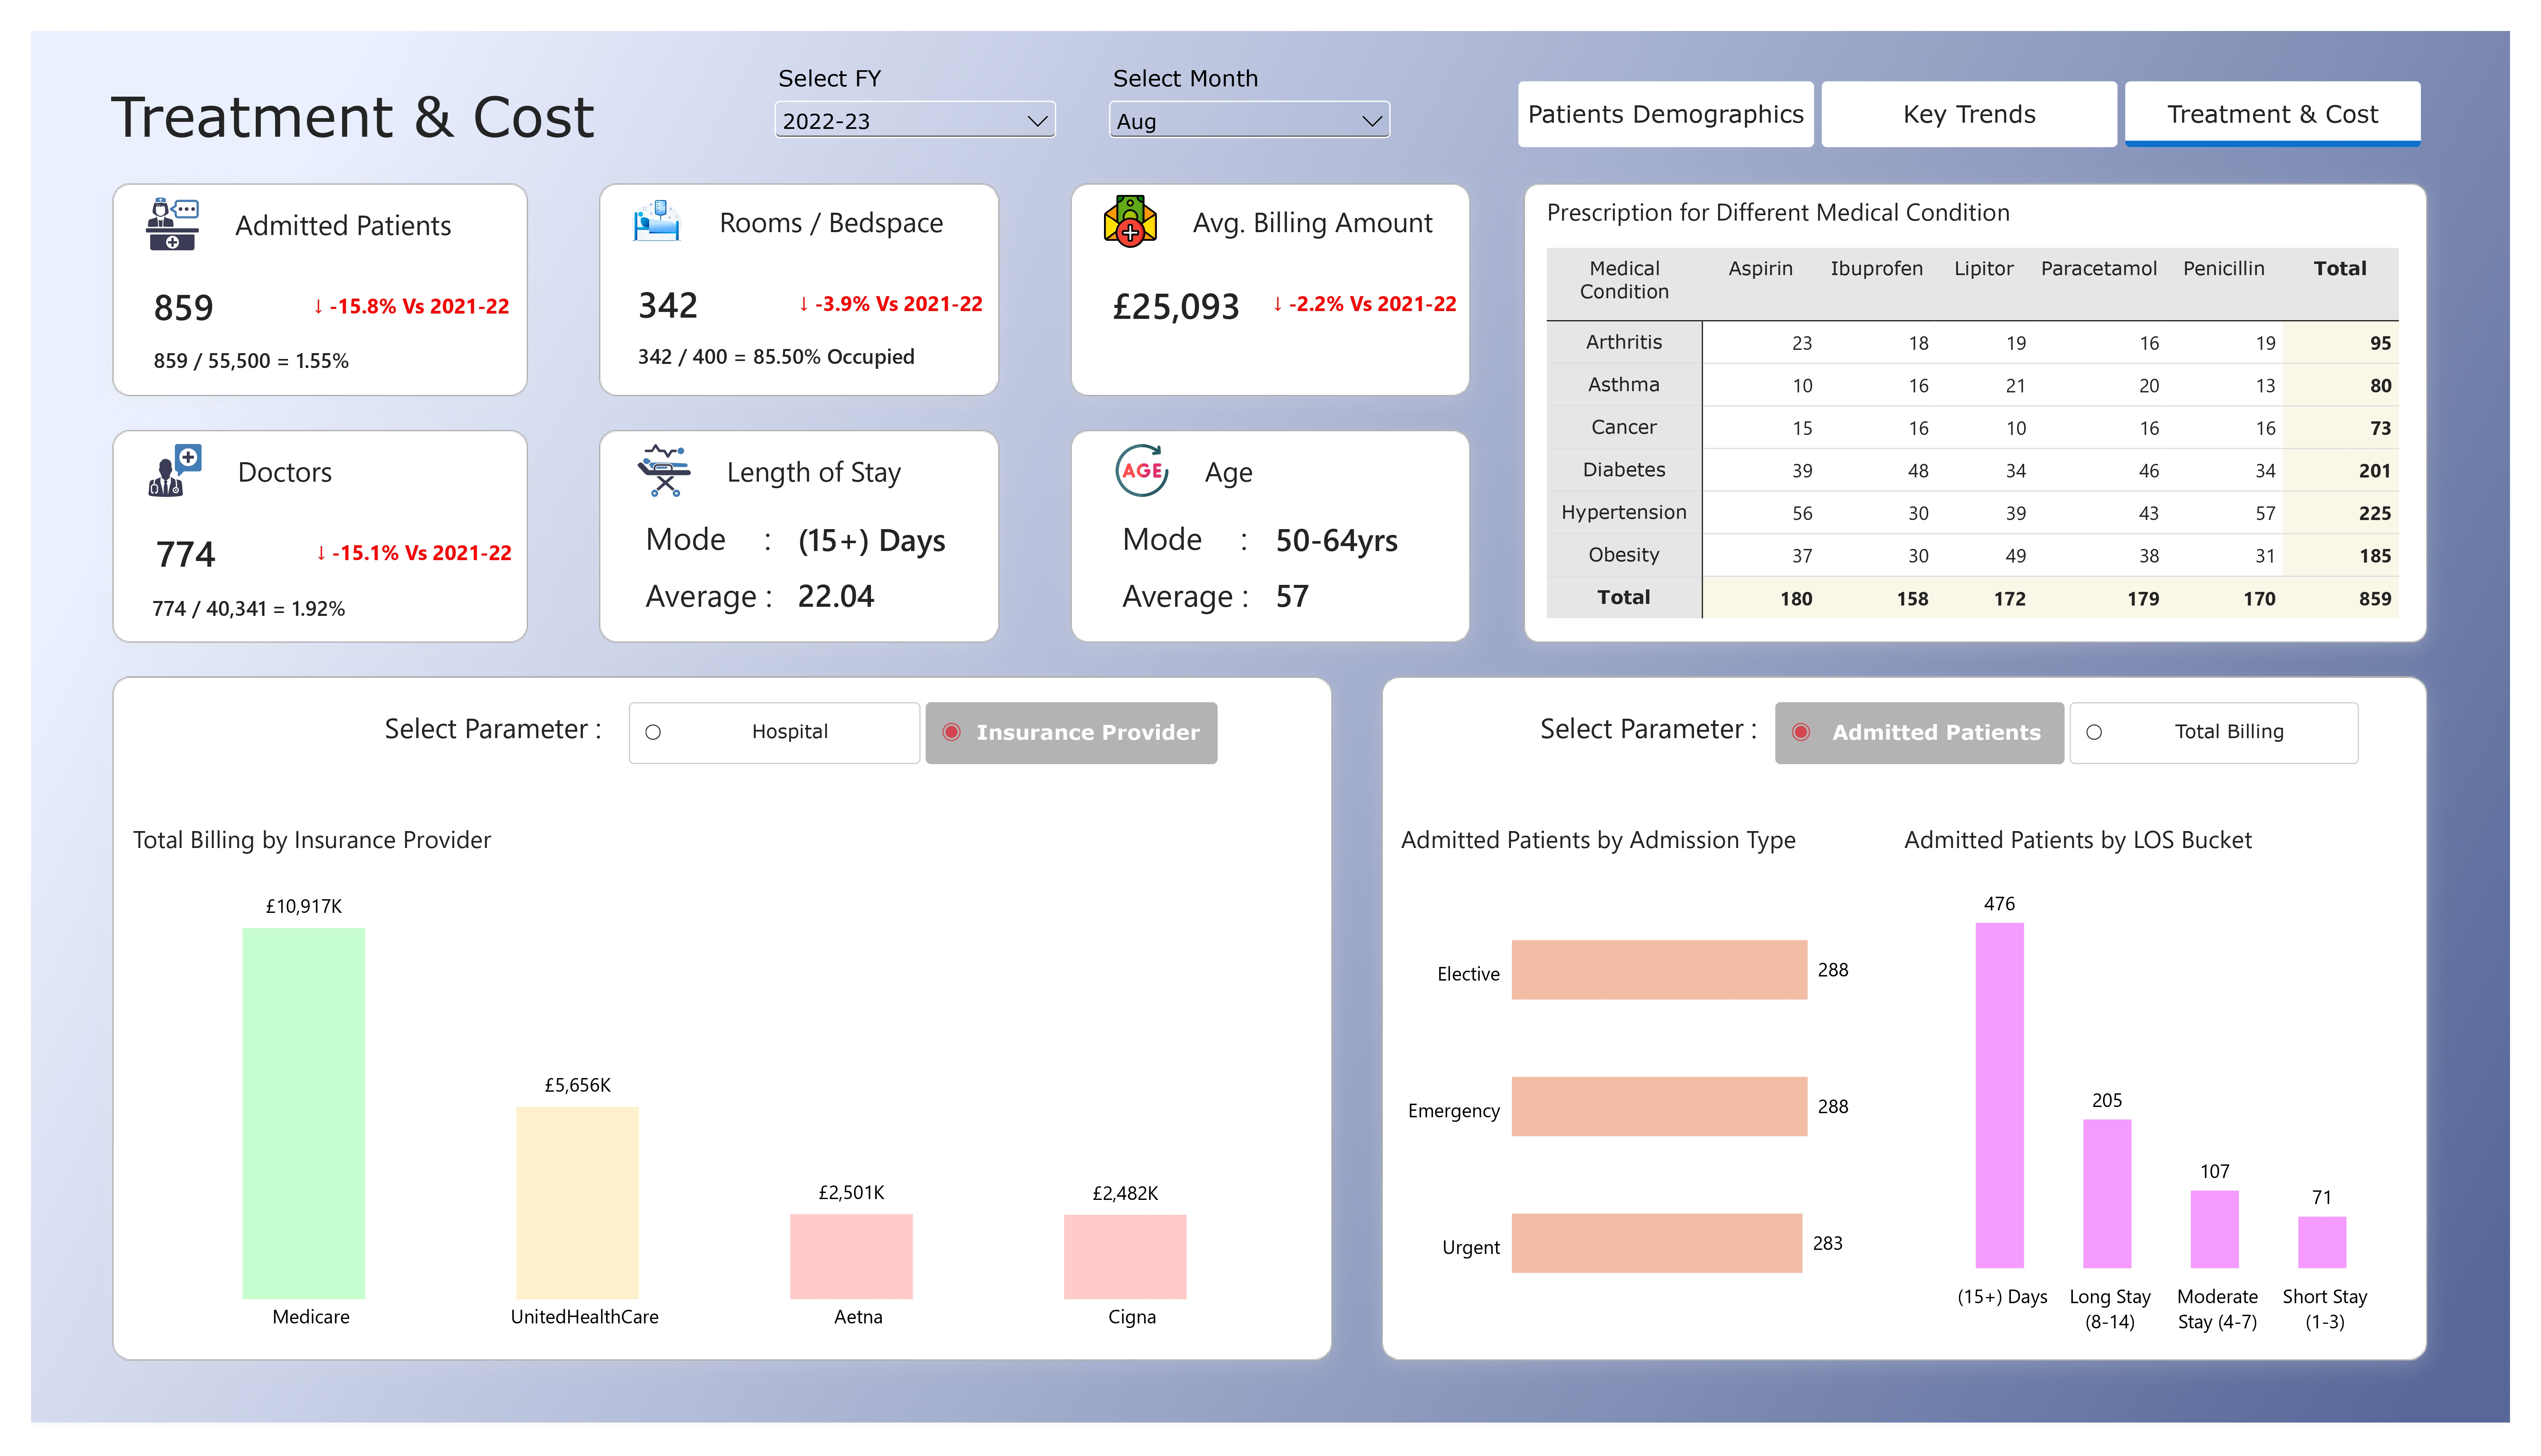

Layout of this report page (visuals, bound fields, positions):
{"tool":"powerbi","page":{"name":"Treatment & Cost","canvas":[1920,1080],"ordinal":2},"visuals":[{"type":"slicer","fields":{"Values":["Calendar.FY"]},"box":[570.7,26.3,228.3,65],"z":0},{"type":"cardVisual","fields":{"Data":["DAX.Admitted Patients"]},"box":[78.6,171.4,172.3,82.9],"z":1000},{"type":"slicer","fields":{"Values":["Calendar.FY Month"]},"box":[830.1,26.3,228.3,65],"z":2000},{"type":"image","box":[78.5,129,61.2,41.2],"z":3000},{"type":"textbox","box":[157.5,135,187.5,28.8],"z":4000},{"type":"cardVisual","fields":{"Data":["DAX.Adm YoY"]},"box":[202.9,177.1,201.4,70],"z":5000},{"type":"cardVisual","fields":{"Data":["DAX.Admitted P Text"]},"box":[78.6,227.1,235.7,54.3],"z":6000},{"type":"cardVisual","fields":{"Data":["DAX.Rooms"]},"box":[454.3,169.2,172.3,82.9],"z":7000},{"type":"image","box":[454.3,127.1,61,41],"z":8000},{"type":"textbox","box":[533.2,132.8,187.5,28.8],"z":9000},{"type":"cardVisual","fields":{"Data":["DAX.Room YoY"]},"box":[578.6,174.9,201.4,70],"z":10000},{"type":"cardVisual","fields":{"Data":["DAX.Rooms Occupied Text"]},"box":[454.3,224.3,265.7,54.3],"z":11000},{"type":"cardVisual","fields":{"Data":["DAX.Avg Billing Amt"]},"box":[821.2,169.8,172.3,82.9],"z":12000},{"type":"image","box":[820.9,127.2,61.2,41.3],"z":13000},{"type":"textbox","box":[900.2,133.3,187.5,28.8],"z":14000},{"type":"cardVisual","fields":{"Data":["DAX.Bill YoY"]},"box":[945.5,175.5,201.4,70],"z":15000},{"type":"cardVisual","fields":{"Data":["DAX.Doctors"]},"box":[81.1,362.2,172.3,82.9],"z":16000},{"type":"image","box":[81,319.7,61.2,41.2],"z":17000},{"type":"textbox","box":[160.1,325.7,187.5,28.8],"z":18000},{"type":"cardVisual","fields":{"Data":["DAX.Doc YoY"]},"box":[205.4,367.9,201.4,70],"z":19000},{"type":"cardVisual","fields":{"Data":["DAX.Doc Text"]},"box":[78,419.2,235.7,54.3],"z":20000},{"type":"cardVisual","fields":{"Data":["DAX.Mode Age"]},"box":[947.9,371.5,155.1,42.7],"z":21000},{"type":"image","box":[829.7,319.8,61.2,41.2],"z":22000},{"type":"textbox","box":[908.8,325.8,187.5,28.8],"z":23000},{"type":"cardVisual","fields":{"Data":["DAX.Average Age of Group"]},"box":[947.9,416,118.1,39.9],"z":24000},{"type":"textbox","box":[845.4,375.7,156.6,34.2],"z":25000},{"type":"textbox","box":[845.4,419.9,123.8,34.2],"z":26000},{"type":"cardVisual","fields":{"Data":["DAX.Mode LOS"]},"box":[577.9,371.5,251.9,42.7],"z":27000},{"type":"image","box":[460.1,319.8,61.2,41.2],"z":28000},{"type":"textbox","box":[539.2,325.8,187.5,28.8],"z":29000},{"type":"cardVisual","fields":{"Data":["DAX.Average LOS of Group"]},"box":[578.3,416,118.1,39.9],"z":30000},{"type":"textbox","box":[475.8,375.7,156.6,34.2],"z":31000},{"type":"textbox","box":[475.8,419.9,123.8,34.2],"z":32000},{"type":"clusteredColumnChart","fields":{"Category":["HealthData.LOS Bucket"],"Y":["DAX.Admitted Patients"]},"box":[1435.1,598.5,412.3,428.3],"z":33000},{"type":"lineStackedColumnComboChart","fields":{"Category":["HealthData.Insurance Provider"],"Y":["DAX.Total Billing"]},"box":[62.5,598.5,944.3,428.3],"z":34000},{"type":"advancedSlicerVisual","fields":{"Values":["Parameter P3.Parameter P3"]},"box":[442.9,520,496.1,47.9],"z":35000},{"type":"pivotTable","title":"Prescription for Different Medical Condition","fields":{"Columns":["HealthData.Medication"],"Rows":["DimCondition.Medical Condition"],"Values":["DAX.Admitted Patients"]},"box":[1158.5,113.1,704.9,360.4],"z":36000},{"type":"clusteredBarChart","fields":{"Category":["HealthData.Admission Type"],"Y":["DAX.Admitted Patients"]},"box":[1045.4,598.5,379.1,428.3],"z":37000},{"type":"advancedSlicerVisual","fields":{"Values":["Parameter P4.Parameter P4"]},"box":[1331.4,520,492.1,47.9],"z":38000},{"type":"textbox","box":[274,525.4,186.4,37],"z":39000},{"type":"textbox","box":[1169.1,525.4,186.4,37],"z":39001},{"type":"pageNavigator","box":[1152,38.9,701.1,51.3],"z":39002},{"type":"textbox","box":[62.2,39.2,386.4,55.4],"z":39003}]}

Visuals, with their boxes on the page's 1920x1080 design canvas (x1, y1, x2, y2). These are canvas units, not pixel positions in the 2541x1456 screenshot, which may show the page scaled, cropped or inside an application window:
slicer - Calendar.FY: (571, 26, 799, 91)
cardVisual - DAX.Admitted Patients: (79, 171, 251, 254)
slicer - Calendar.FY Month: (830, 26, 1058, 91)
image: (78, 129, 140, 170)
textbox: (158, 135, 345, 164)
cardVisual - DAX.Adm YoY: (203, 177, 404, 247)
cardVisual - DAX.Admitted P Text: (79, 227, 314, 281)
cardVisual - DAX.Rooms: (454, 169, 627, 252)
image: (454, 127, 515, 168)
textbox: (533, 133, 721, 162)
cardVisual - DAX.Room YoY: (579, 175, 780, 245)
cardVisual - DAX.Rooms Occupied Text: (454, 224, 720, 279)
cardVisual - DAX.Avg Billing Amt: (821, 170, 994, 253)
image: (821, 127, 882, 168)
textbox: (900, 133, 1088, 162)
cardVisual - DAX.Bill YoY: (946, 176, 1147, 246)
cardVisual - DAX.Doctors: (81, 362, 253, 445)
image: (81, 320, 142, 361)
textbox: (160, 326, 348, 354)
cardVisual - DAX.Doc YoY: (205, 368, 407, 438)
cardVisual - DAX.Doc Text: (78, 419, 314, 474)
cardVisual - DAX.Mode Age: (948, 372, 1103, 414)
image: (830, 320, 891, 361)
textbox: (909, 326, 1096, 355)
cardVisual - DAX.Average Age of Group: (948, 416, 1066, 456)
textbox: (845, 376, 1002, 410)
textbox: (845, 420, 969, 454)
cardVisual - DAX.Mode LOS: (578, 372, 830, 414)
image: (460, 320, 521, 361)
textbox: (539, 326, 727, 355)
cardVisual - DAX.Average LOS of Group: (578, 416, 696, 456)
textbox: (476, 376, 632, 410)
textbox: (476, 420, 600, 454)
clusteredColumnChart - HealthData.LOS Bucket x DAX.Admitted Patients: (1435, 598, 1847, 1027)
lineStackedColumnComboChart - HealthData.Insurance Provider x DAX.Total Billing: (62, 598, 1007, 1027)
advancedSlicerVisual - Parameter P3.Parameter P3: (443, 520, 939, 568)
"Prescription for Different Medical Condition" pivotTable: (1158, 113, 1863, 474)
clusteredBarChart - HealthData.Admission Type x DAX.Admitted Patients: (1045, 598, 1424, 1027)
advancedSlicerVisual - Parameter P4.Parameter P4: (1331, 520, 1824, 568)
textbox: (274, 525, 460, 562)
textbox: (1169, 525, 1356, 562)
pageNavigator: (1152, 39, 1853, 90)
textbox: (62, 39, 449, 95)
